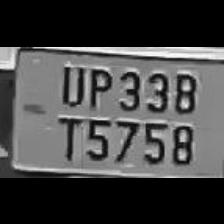3: (141, 67, 169, 113), (113, 66, 142, 110)
5: (82, 114, 110, 160), (138, 117, 166, 163)
7: (110, 115, 138, 161)
8: (166, 120, 194, 166)
B: (169, 67, 197, 115)
P: (84, 62, 113, 110)
T: (51, 110, 83, 160)
U: (54, 60, 85, 106)
